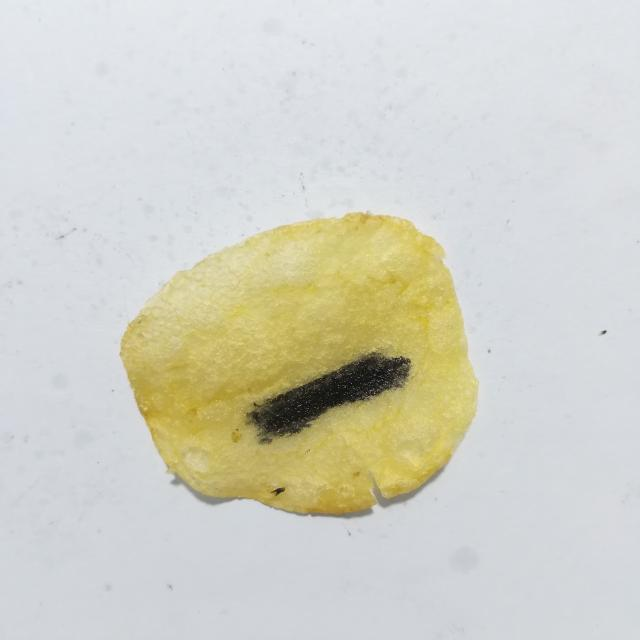chip: (121, 213, 478, 514)
damaged: (248, 352, 412, 443), (272, 487, 285, 496)
